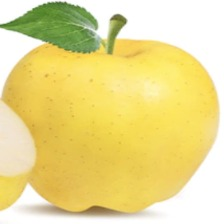apple: (46, 44, 185, 178)
